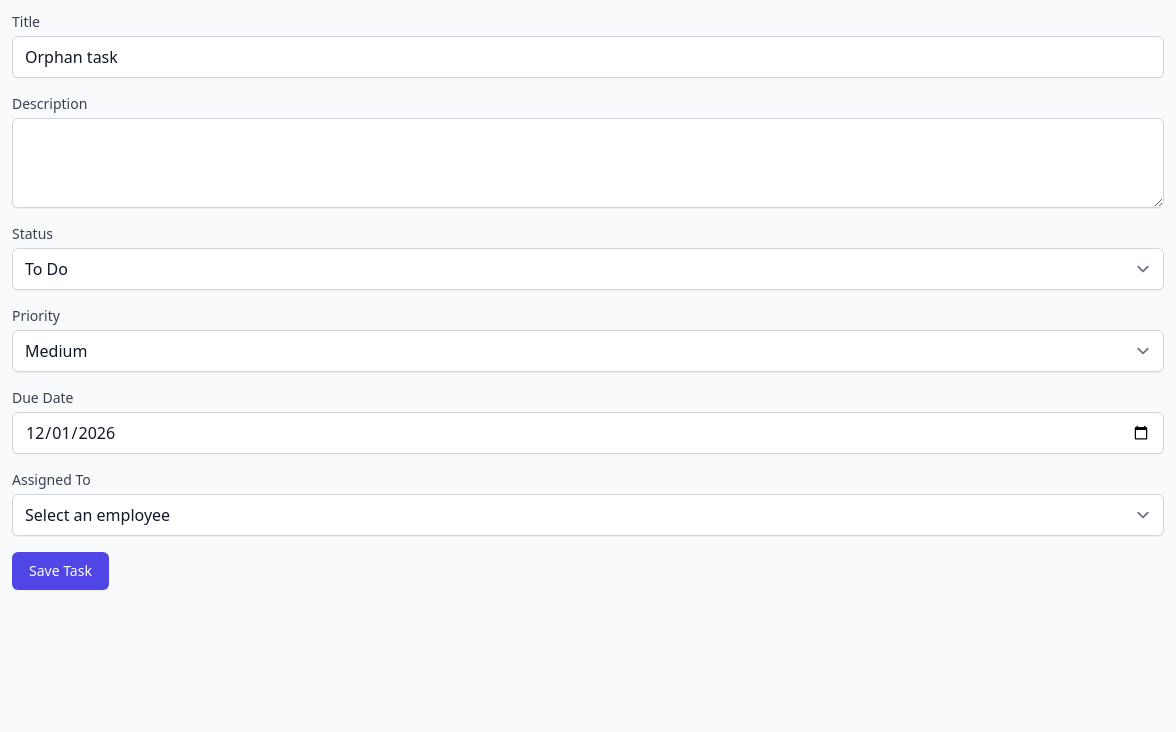
TaskForm › asks for an assignee when editing a task that has none
This screenshot has width=1176, height=732.
Expected: the dropdown labelled "Assigned To" shows "Select an employee", top-left (12, 494), bottom-right (1164, 536)
Click the button "Save Task". click: (60, 571)
box: top-left (12, 552), bottom-right (109, 590)
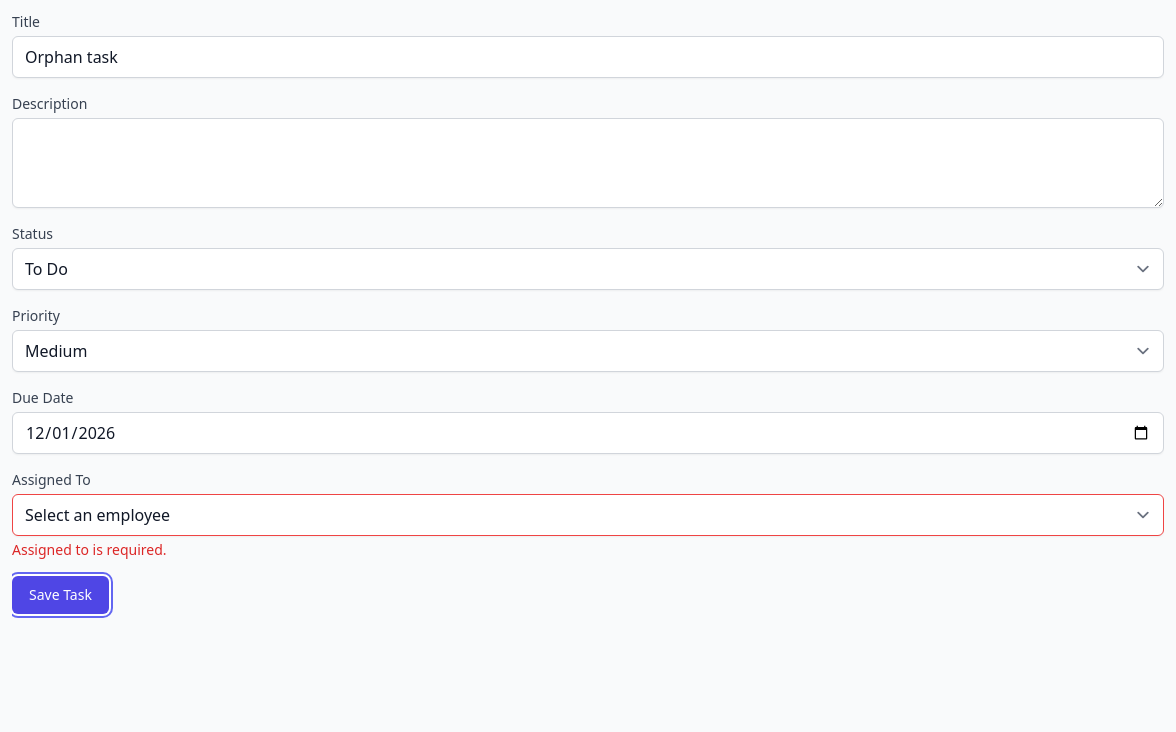
Now the text "Assigned to is required." is shown, box top-left (12, 540), bottom-right (166, 559)
